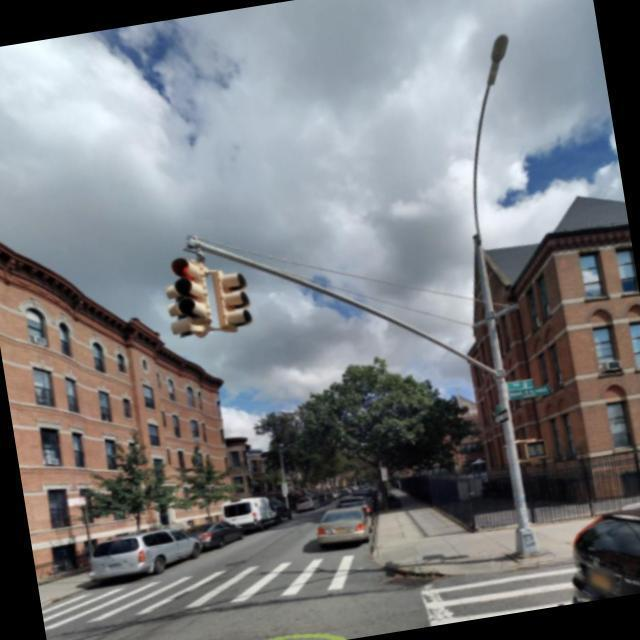off: (462, 3, 538, 348)
